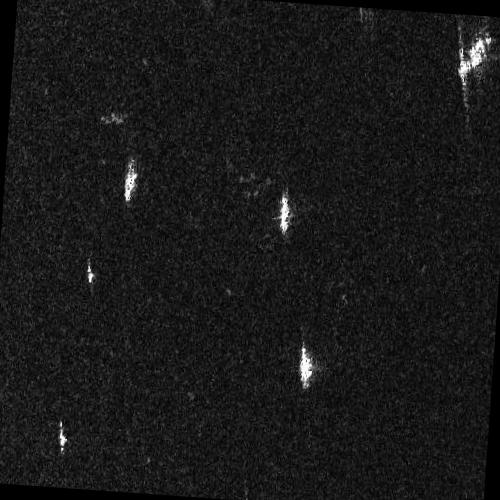ship: (456, 35, 491, 76), (122, 158, 137, 203), (299, 342, 313, 389), (278, 191, 291, 236), (58, 422, 66, 453), (86, 259, 94, 284)
